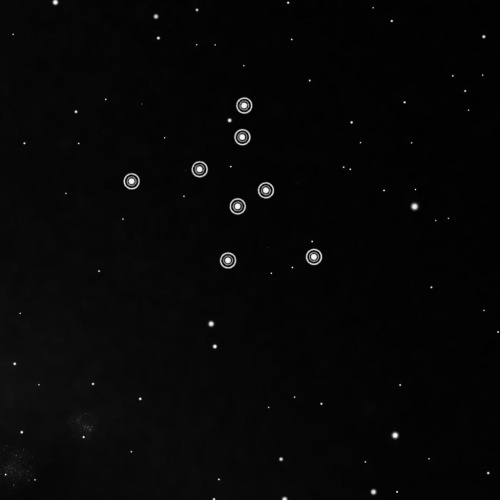hercules: (116, 91, 329, 276)
